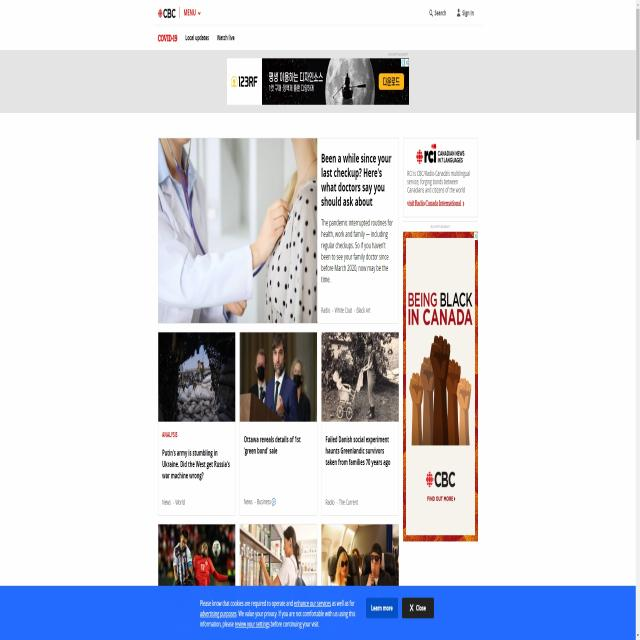menu-bar: (426, 1, 477, 22)
tab-bar: (154, 29, 240, 45)
